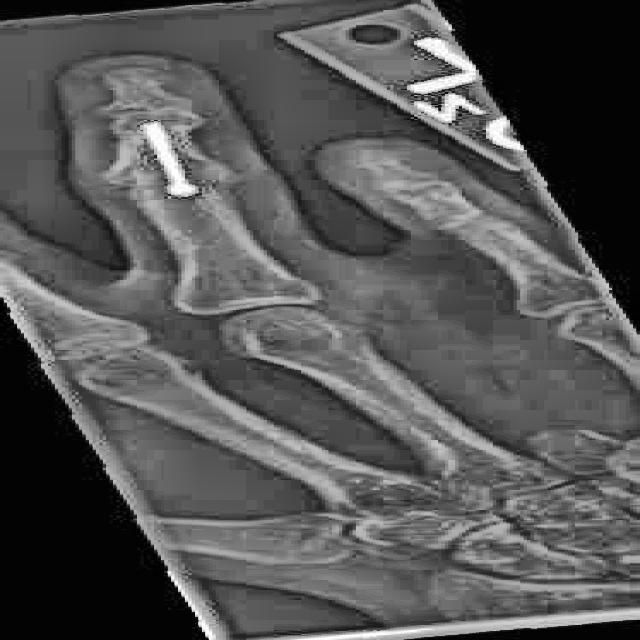fingers positive: (99, 119, 222, 162)
